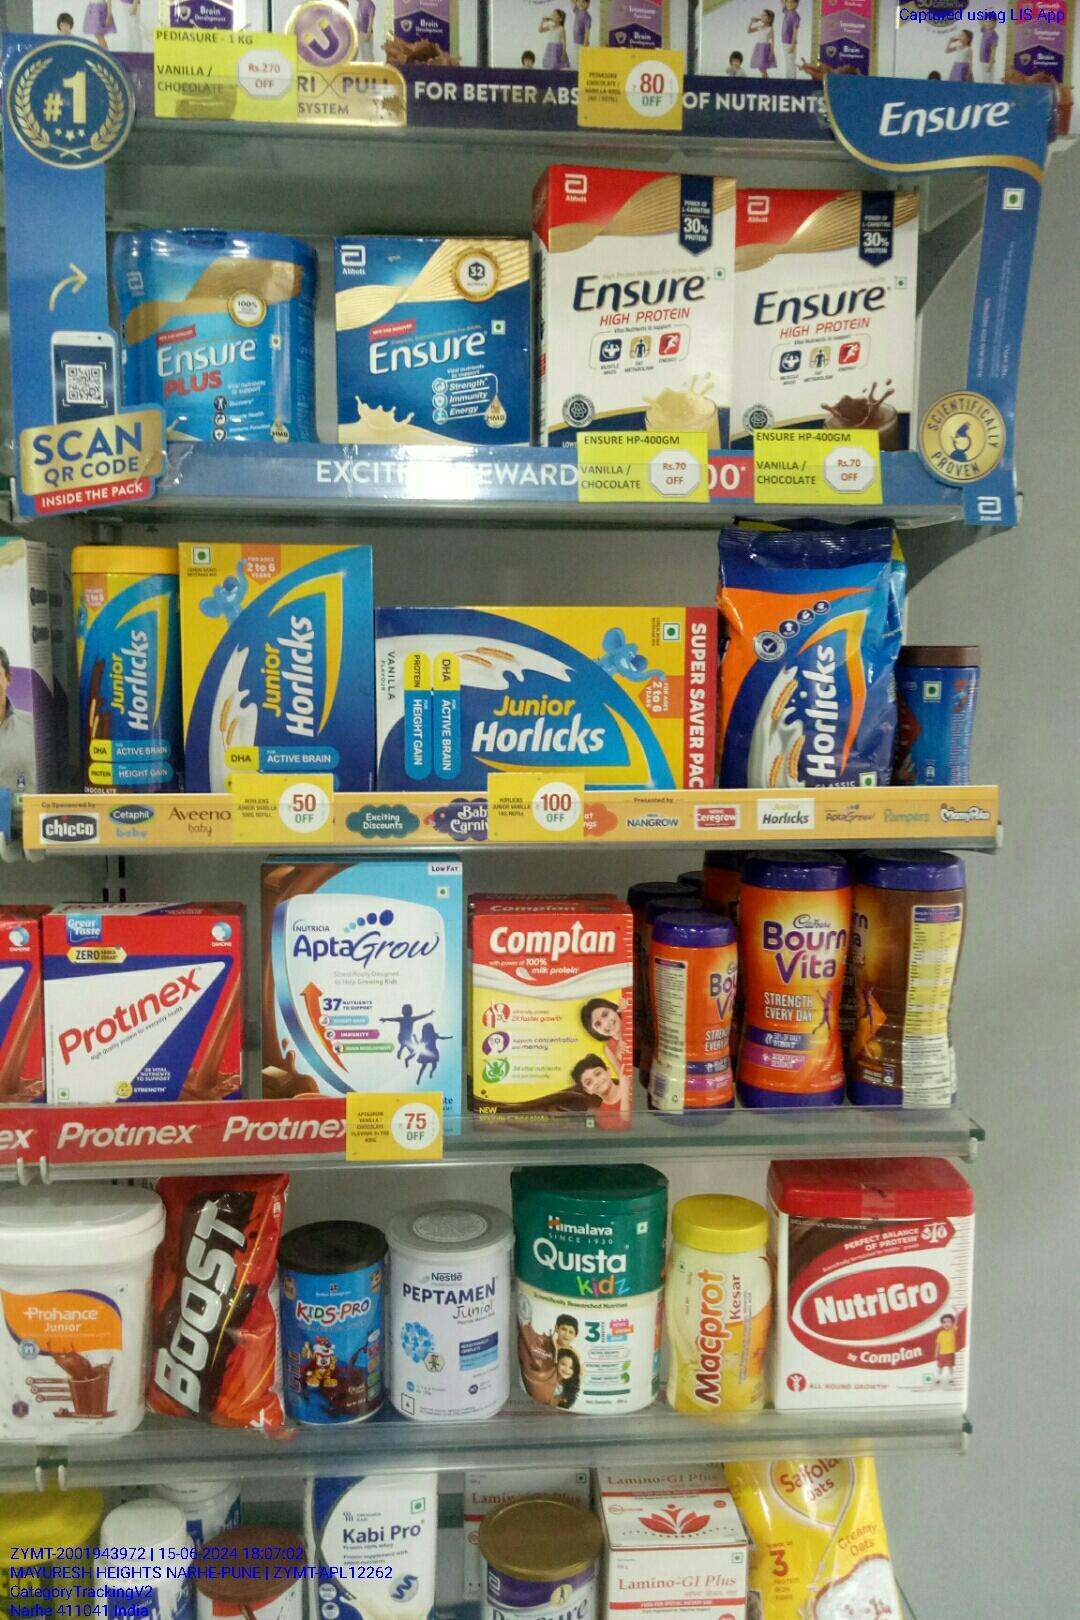BOURN_VITA_200_G_JAR: (652, 922, 736, 1127)
BOURN_VITA_500_G_JAR: (740, 856, 849, 1108)
ENSURE_VANILLA_400_G_PACK: (336, 235, 529, 448)
